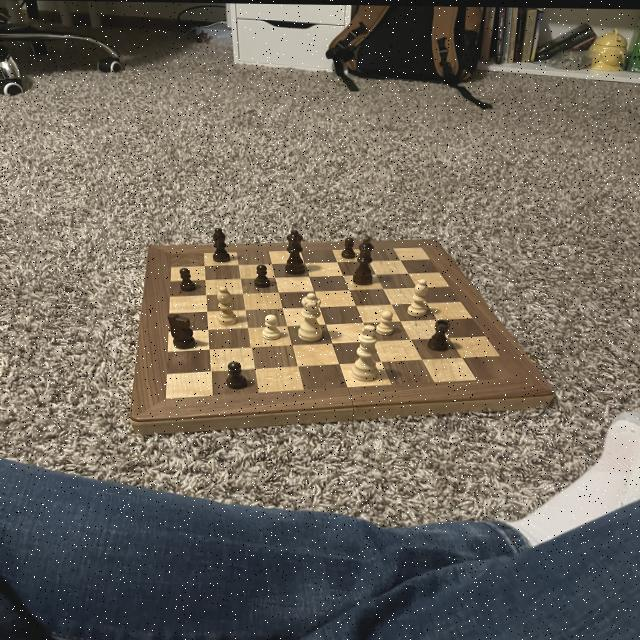bishop: (209, 225, 234, 265)
black-bishop: (351, 231, 377, 286)
black-king: (167, 309, 197, 354)
black-knight: (223, 358, 249, 390), (177, 266, 197, 292), (254, 263, 274, 289), (339, 234, 358, 258)
black-pawn: (280, 228, 310, 275)
black-queen: (425, 316, 453, 352)
black-rook: (404, 275, 434, 317), (215, 284, 240, 327)
white-bishop: (350, 321, 380, 384)
white-knight: (258, 311, 285, 342), (372, 307, 397, 335)
white-pawn: (296, 288, 328, 343)
